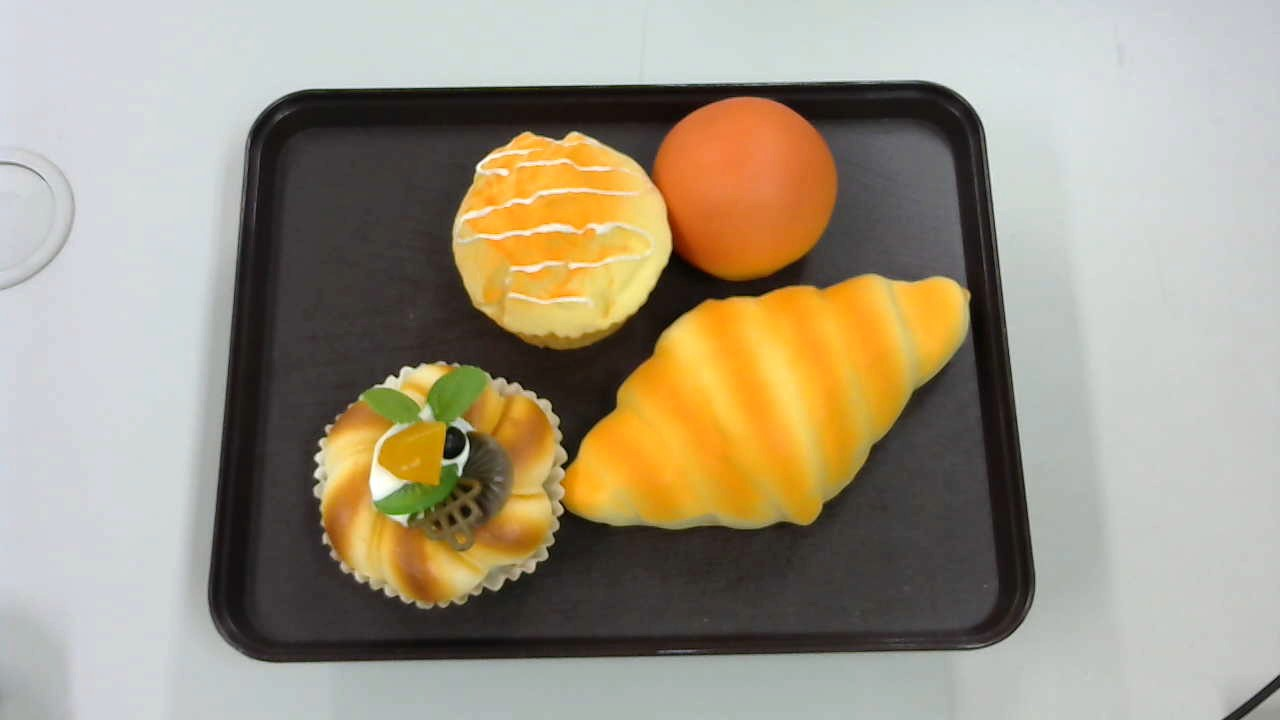bun: (653, 97, 838, 280)
croissant: (563, 274, 971, 528)
cupcake: (451, 131, 673, 352)
fruit tart: (312, 360, 563, 606)
